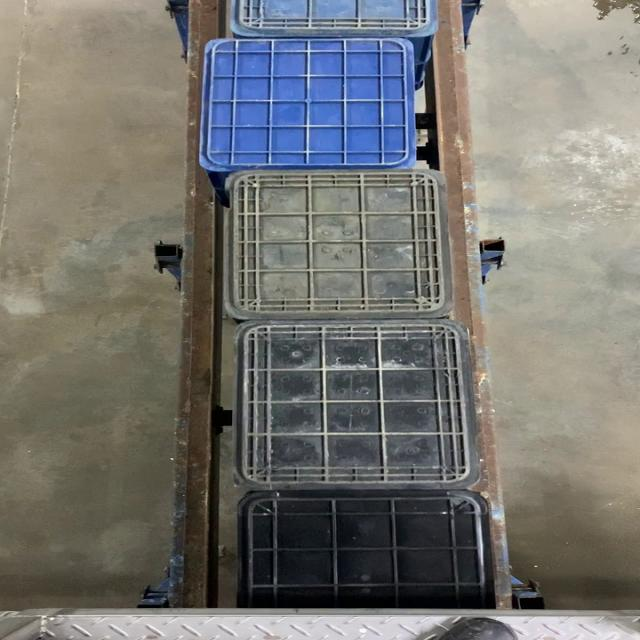Box: (231, 321, 480, 489), (216, 171, 453, 320), (195, 38, 418, 170)
